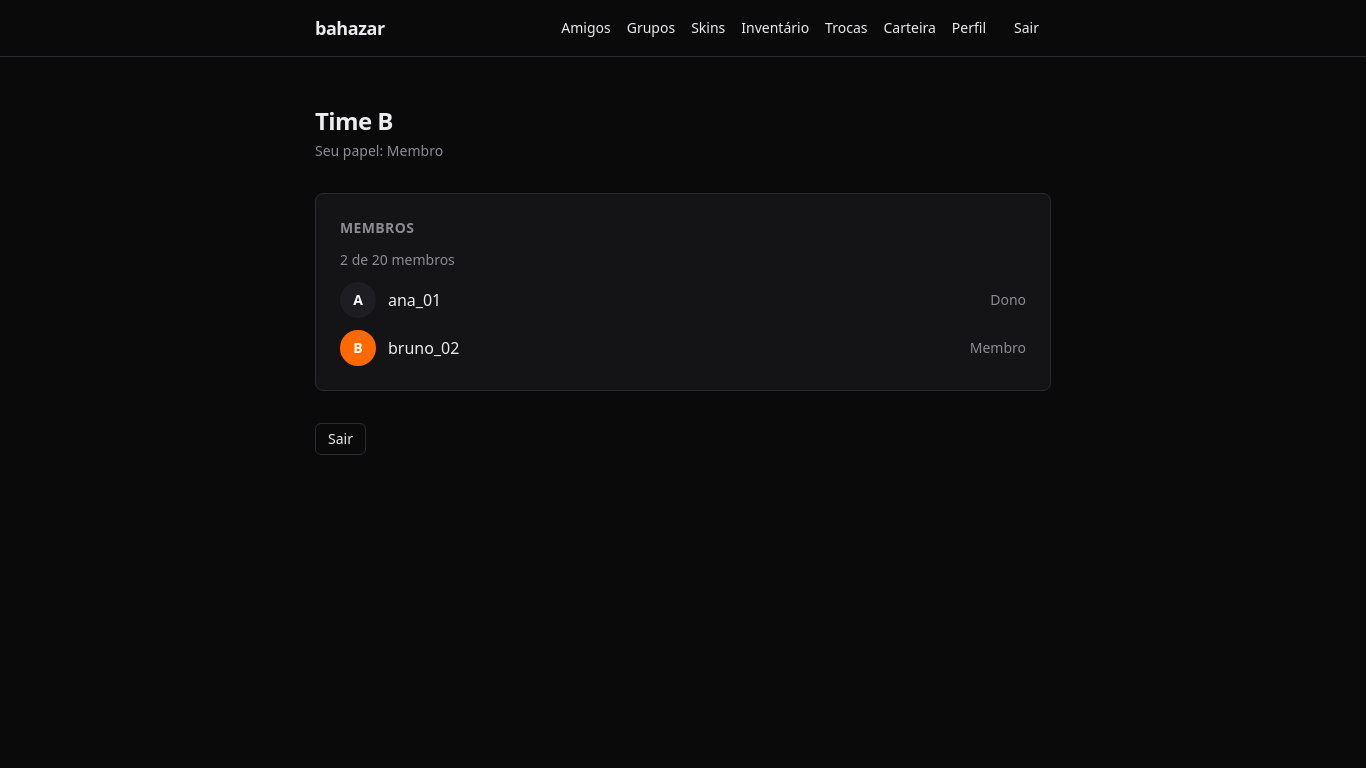
Test: RoomDetailPage › Sair pede confirmação: o 1º clique não faz POST, o segundo faz e volta para /grupos
Click the button with aria-label "Sair Time B". click: coordinates (340, 439)
box: [315,423,366,455]
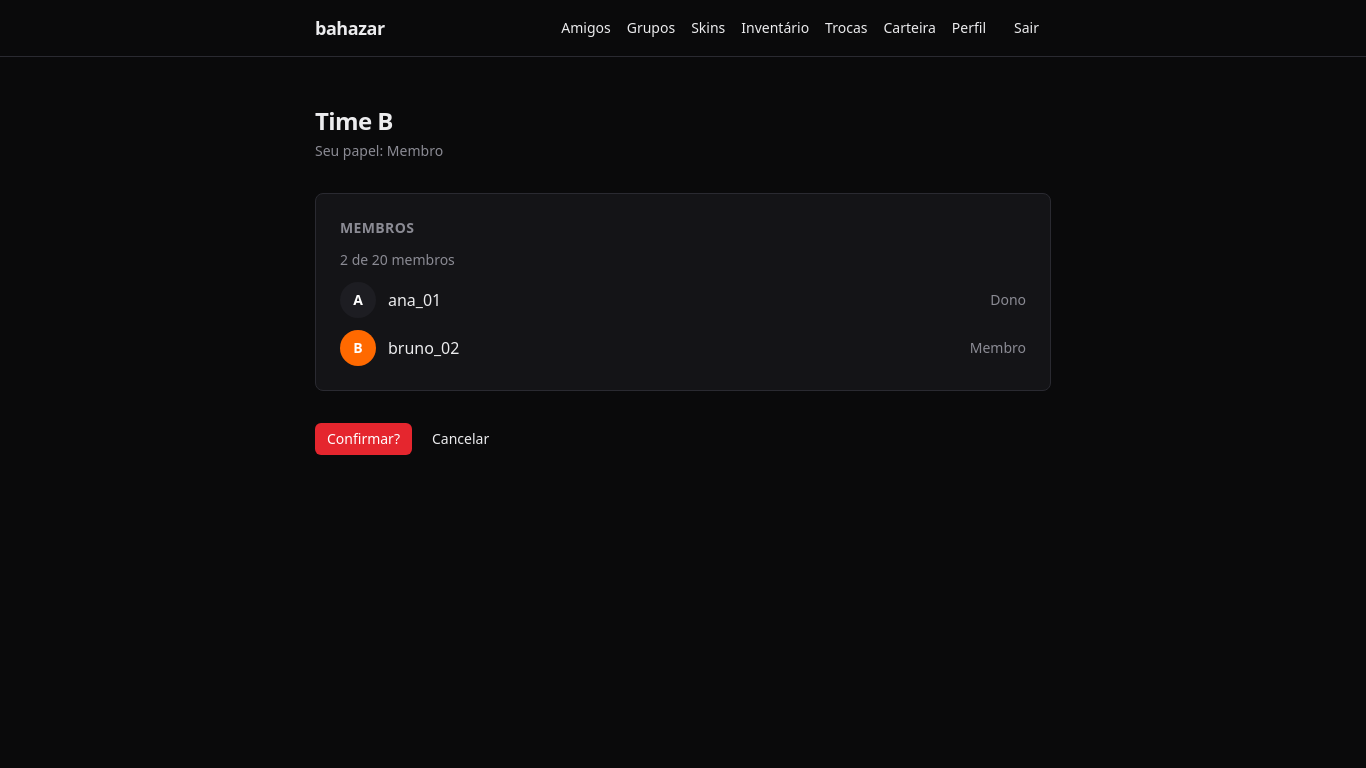
Click the button with aria-label "Confirmar Sair Time B". click: coordinates (364, 439)
box: [315,423,412,455]
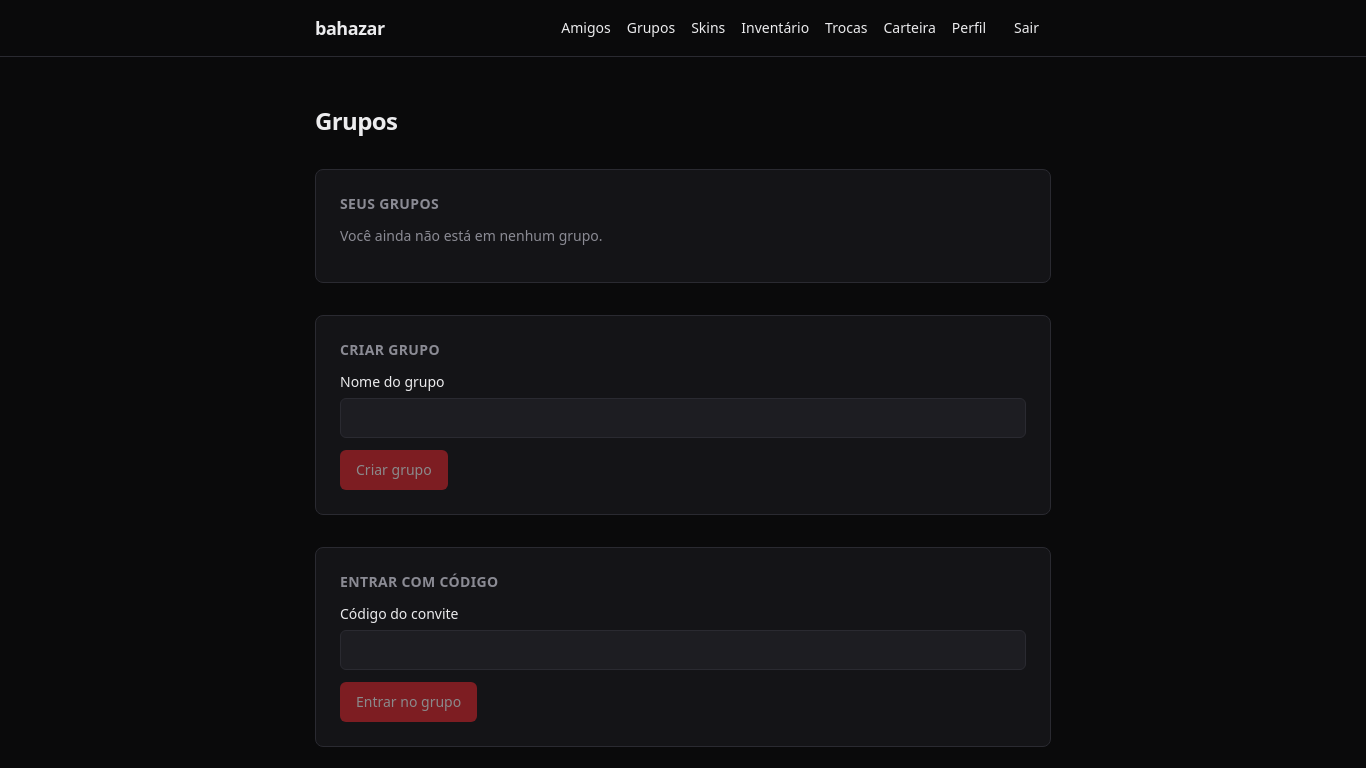
Expected: the heading "Grupos" is shown, [315,104,397,137]
Expected: the text "Você ainda não está em nenhum grupo." is shown, [340,226,603,245]
